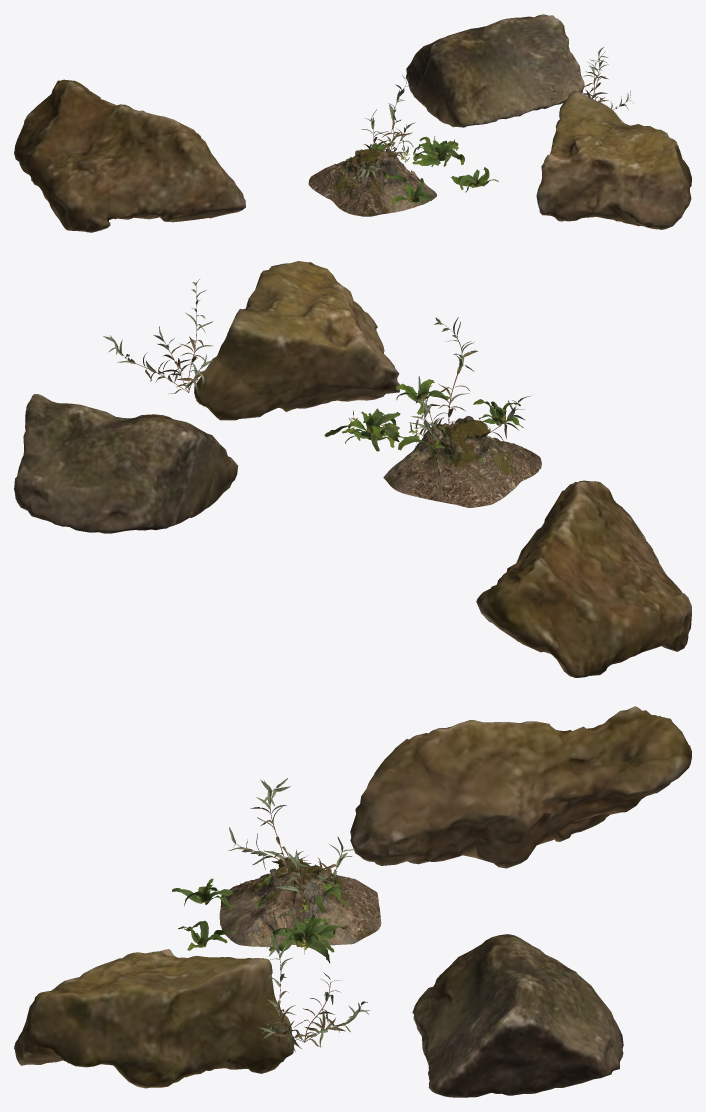
File: natur.glb
3 views of the same model, one above another, from view 1: azimuth 30°, elevation 25°; view 2: azimuth 150°, elevation 25°; view 3: azimuth 270°, elevation 25° (orthographic). The views are drawn at different scales.
Visible parts, largest first — view 1: rock_moss_set_01_rock01, rock_moss_set_01_rock06, rock_moss_set_01_rock03, tree_stump_01, shrub_02_b, fern_02_c, shrub_02_d, fern_02_d, fern_02_a; view 2: rock_moss_set_01_rock01, rock_moss_set_01_rock03, rock_moss_set_01_rock06, tree_stump_01, shrub_02_b, shrub_02_d, fern_02_c; view 3: rock_moss_set_01_rock01, rock_moss_set_01_rock06, rock_moss_set_01_rock03, tree_stump_01, shrub_02_b, shrub_02_d, fern_02_c, fern_02_a, fern_02_d.
Part boxes in pixels (x1,y1,x2,y2): rock_moss_set_01_rock01: [14, 79, 245, 232]; rock_moss_set_01_rock06: [536, 90, 691, 229]; rock_moss_set_01_rock03: [405, 14, 584, 127]; tree_stump_01: [308, 148, 436, 216]; shrub_02_b: [346, 75, 415, 182]; fern_02_c: [412, 136, 464, 166]; shrub_02_d: [547, 47, 633, 110]; fern_02_d: [450, 167, 498, 192]; fern_02_a: [392, 178, 433, 205]; rock_moss_set_01_rock01: [476, 480, 691, 677]; rock_moss_set_01_rock03: [14, 394, 237, 533]; rock_moss_set_01_rock06: [194, 261, 399, 420]; tree_stump_01: [383, 416, 541, 507]; shrub_02_b: [409, 317, 531, 451]; shrub_02_d: [103, 279, 213, 395]; fern_02_c: [324, 408, 406, 451]; rock_moss_set_01_rock01: [350, 706, 691, 868]; rock_moss_set_01_rock06: [14, 949, 293, 1088]; rock_moss_set_01_rock03: [412, 934, 623, 1097]; tree_stump_01: [219, 857, 381, 946]; shrub_02_b: [228, 778, 355, 903]; shrub_02_d: [259, 933, 369, 1051]; fern_02_c: [269, 913, 345, 963]; fern_02_a: [172, 878, 233, 909]; fern_02_d: [178, 920, 237, 950].
Bounding box in the file's own units: 8 × 2.15 × 6.67.
7 materials, 7 textured.
